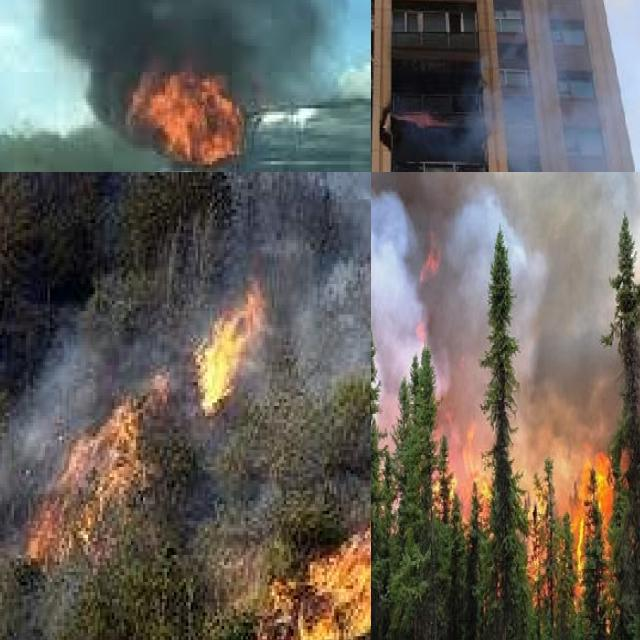fire: (408, 319, 640, 631), (21, 379, 162, 575), (260, 439, 371, 640), (103, 56, 252, 171), (191, 281, 255, 416)
smoke: (371, 172, 640, 512), (0, 0, 330, 95), (491, 0, 640, 172), (0, 334, 102, 531), (293, 172, 371, 375)
